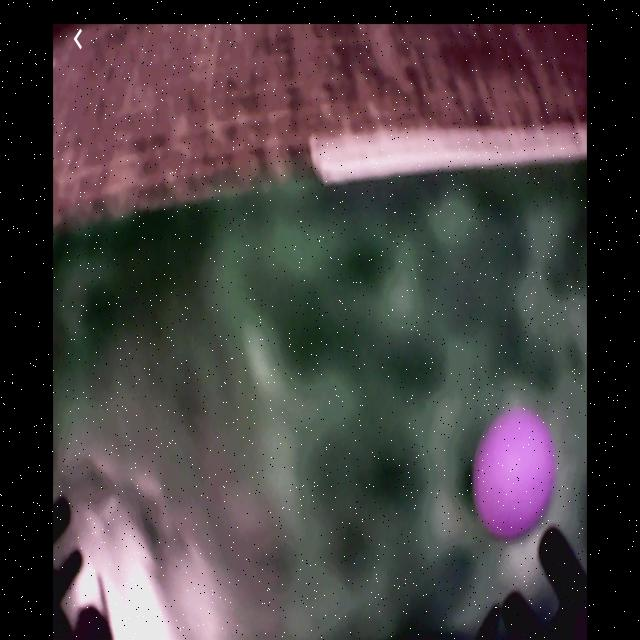ball: (474, 406, 556, 539)
